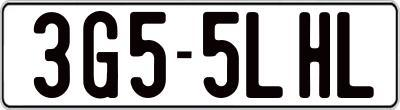3: (31, 11, 73, 101)
5: (202, 10, 244, 97), (130, 11, 167, 100)
G: (83, 11, 122, 99)
H: (298, 10, 331, 101)
L: (337, 12, 380, 104), (244, 11, 287, 97)
